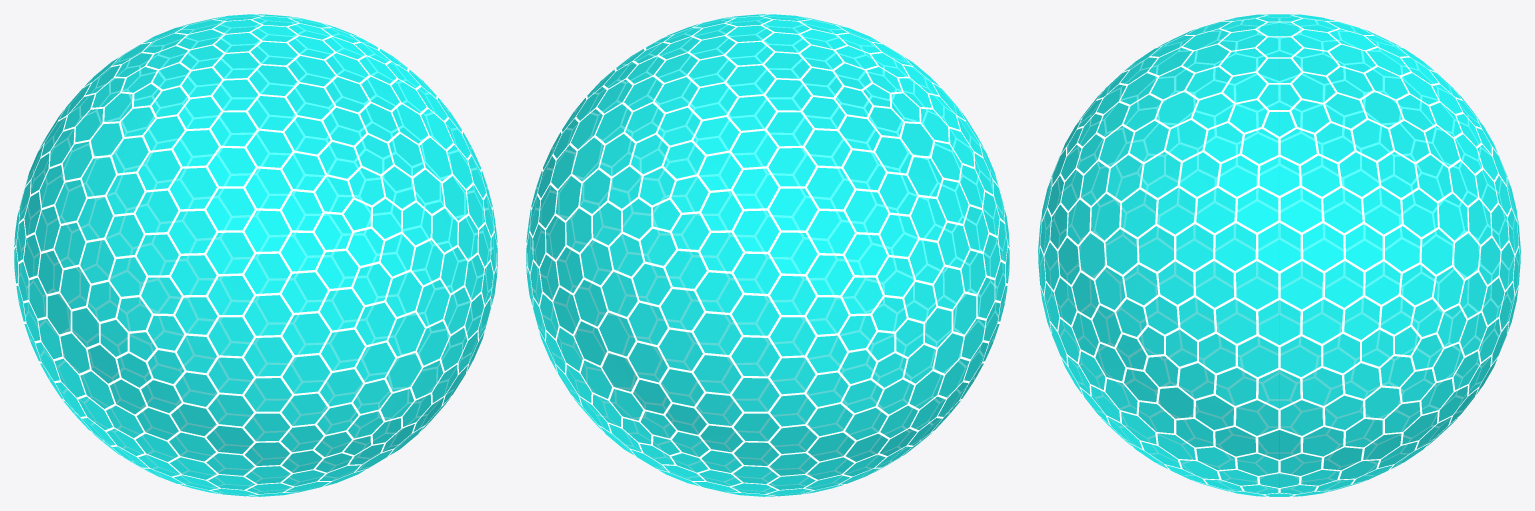
File: spherical_hex_force_field.glb
3 views of the same model, side by side, from view 1: azimuth 30°, elevation 25°; view 2: azimuth 150°, elevation 25°; view 3: azimuth 270°, elevation 25° (orthographic).
Visible parts, largest first — view 1: Sphere_6; view 2: Sphere_6; view 3: Sphere_6.
Boxes of the visible parts, <box> form: Sphere_6: <box>14,14,497,496</box>; Sphere_6: <box>526,14,1009,496</box>; Sphere_6: <box>1038,14,1520,496</box>.
Size of the model in its own units: 199 by 199 by 199.
